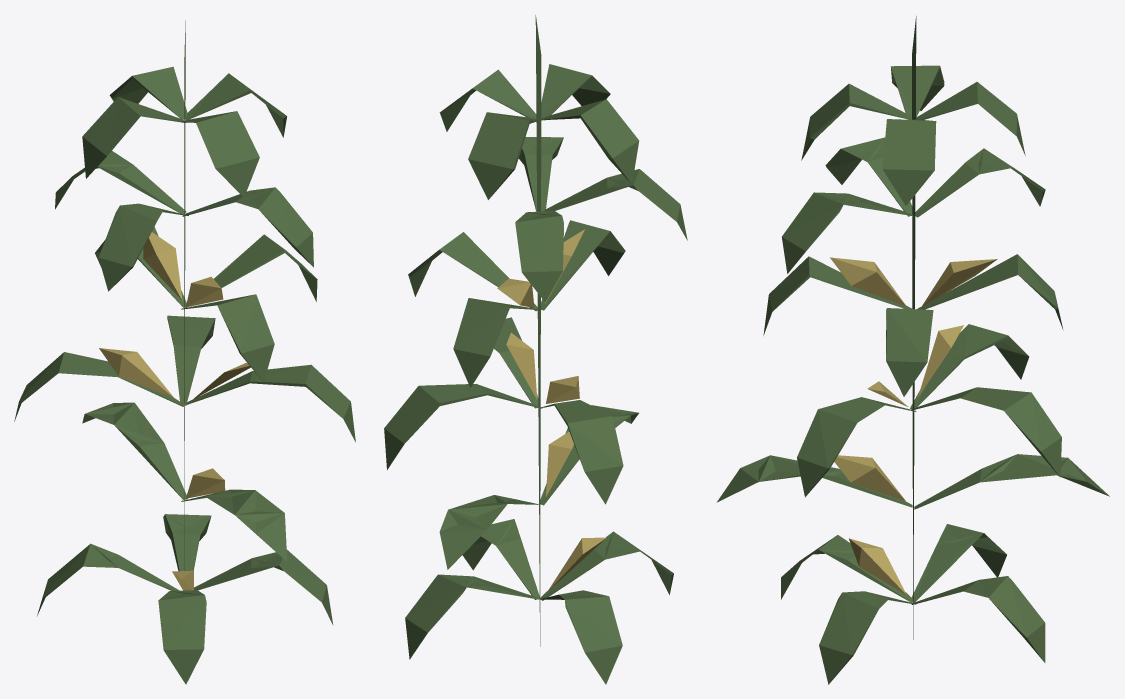
The model's file is Corn_2.lod1.glb.
3 views of the same model, side by side, from view 1: azimuth 30°, elevation 25°; view 2: azimuth 150°, elevation 25°; view 3: azimuth 270°, elevation 25° (orthographic). The views are drawn at different scales.
Parts seen in each view (by area): view 1: Corn_2; view 2: Corn_2; view 3: Corn_2.
Boxes of the visible parts, x1,y1,x2,y2 form: Corn_2: [14, 20, 355, 684]; Corn_2: [384, 15, 687, 684]; Corn_2: [716, 16, 1109, 684].
Bounding box in the file's own units: 0.8197 × 1.98 × 1.09.
